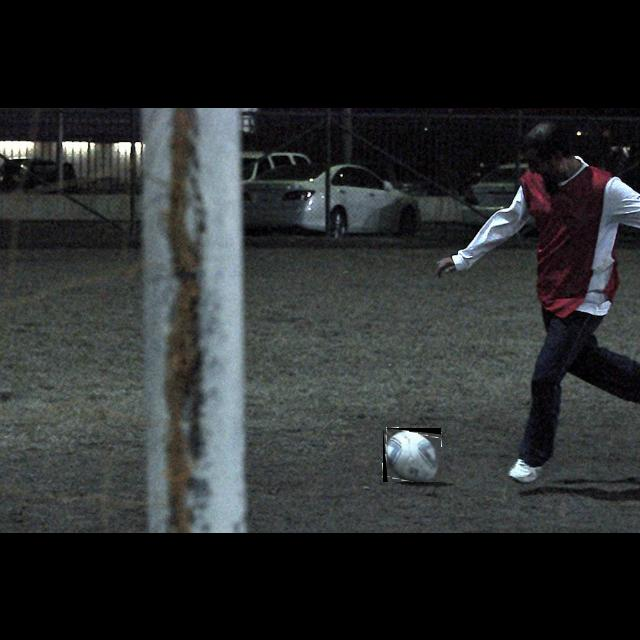Football: (383, 428, 441, 482)
